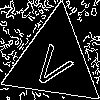V: (29, 36, 80, 93)
